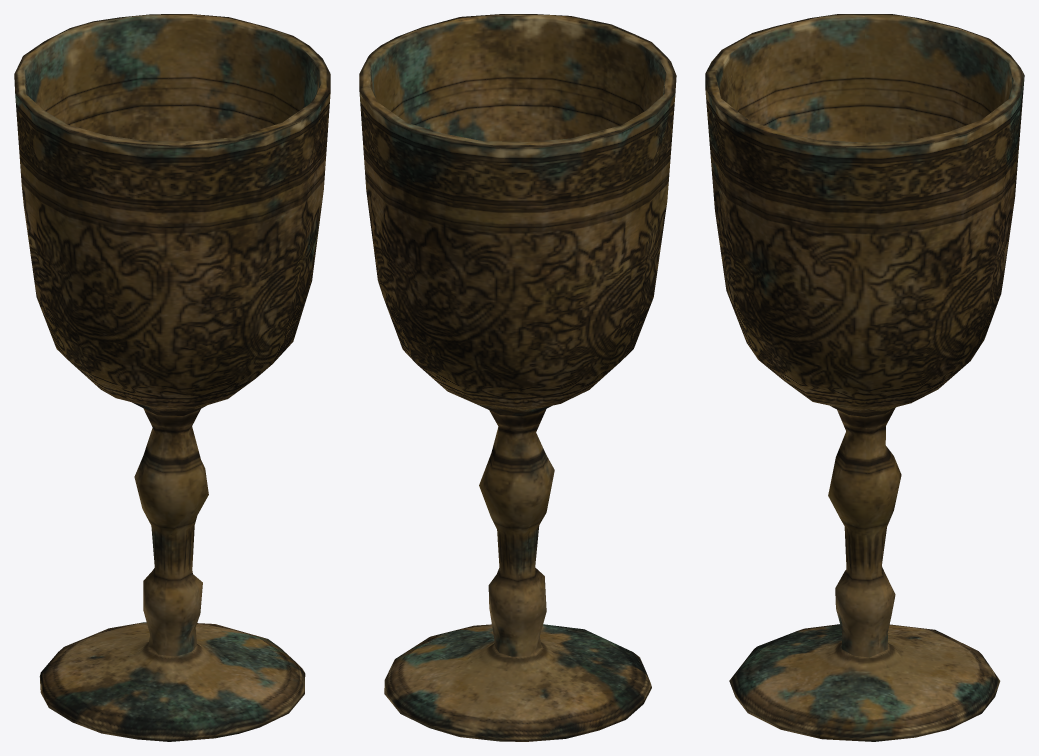
The model's file is SM_Chalice.fbx.
3 renders of one model, left to right at view 1: azimuth 30°, elevation 25°; view 2: azimuth 150°, elevation 25°; view 3: azimuth 270°, elevation 25°, orthographic.
Visible parts, largest first — view 1: SM_Chalice_LOD0; view 2: SM_Chalice_LOD0; view 3: SM_Chalice_LOD0.
Boxes of the visible parts, box(x1,y1,x2,y2) form: SM_Chalice_LOD0: box(14, 14, 330, 741); SM_Chalice_LOD0: box(359, 14, 676, 741); SM_Chalice_LOD0: box(705, 14, 1024, 741).
Size of the model in its own units: 12.41 by 12.44 by 26.06.
